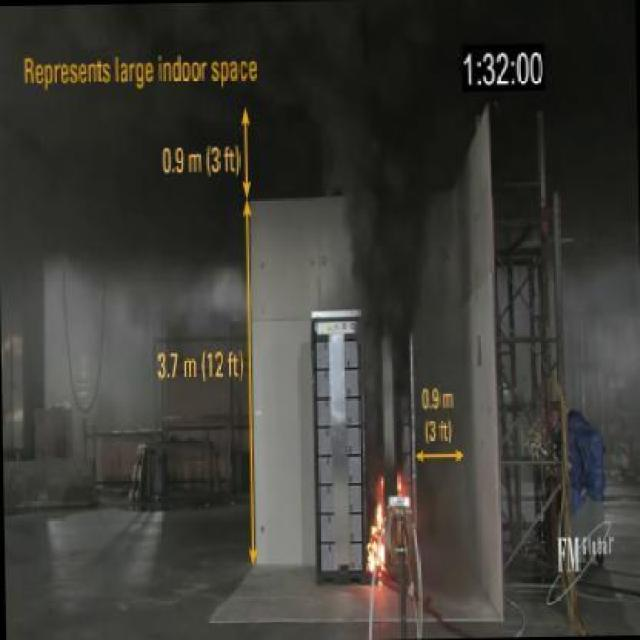fire: (318, 36, 433, 302)
smoke: (362, 466, 395, 585)
